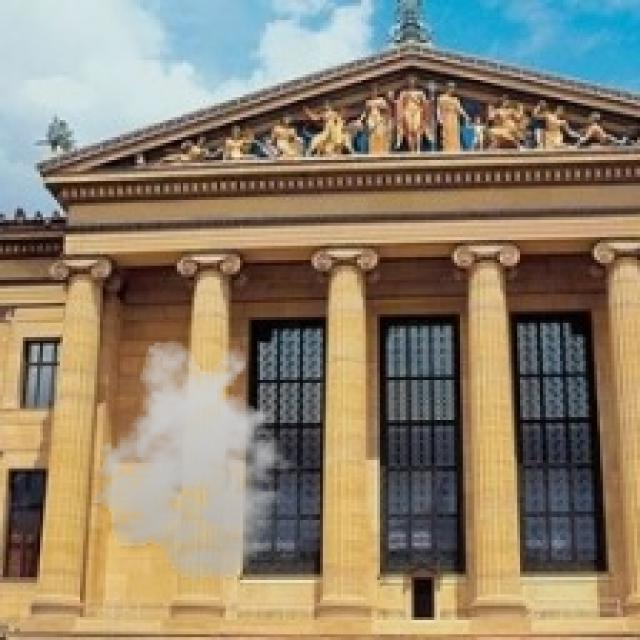Smoke: (86, 337, 306, 583)
